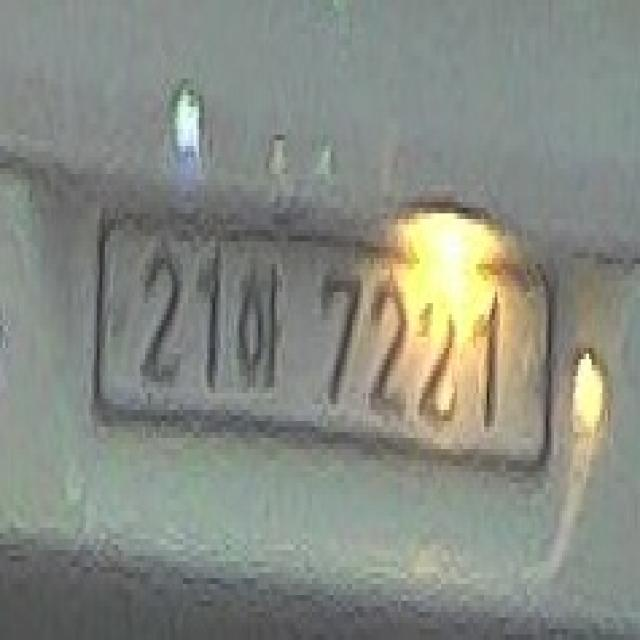1: (470, 281, 510, 442), (191, 250, 225, 401)
2: (356, 266, 412, 431), (131, 248, 184, 394), (414, 273, 460, 439)
7: (311, 263, 367, 417)
ha: (232, 253, 284, 404)
license_plate: (93, 220, 552, 464)
